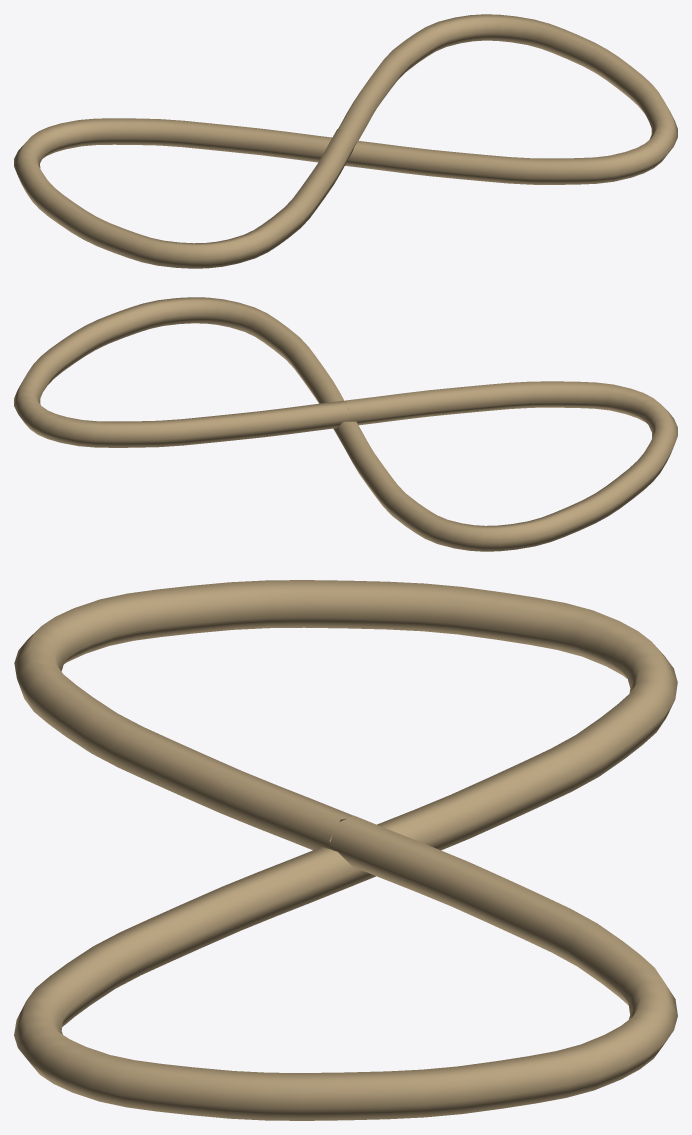
File: cord-figure-eight.glb
The picture shows the model from 3 angles, top to bottom: view 1: azimuth 30°, elevation 25°; view 2: azimuth 150°, elevation 25°; view 3: azimuth 270°, elevation 25°; orthographic projection. The views are drawn at different scales.
Parts seen in each view (by area): view 1: cord-figure-eight runtime mesh; view 2: cord-figure-eight runtime mesh; view 3: cord-figure-eight runtime mesh.
Boxes of the visible parts, x1,y1,x2,y2 form: cord-figure-eight runtime mesh: (14, 14, 677, 268); cord-figure-eight runtime mesh: (14, 297, 677, 551); cord-figure-eight runtime mesh: (14, 580, 677, 1120).
Size of the model in its own units: 0.3539 by 0.0211 by 0.194.
